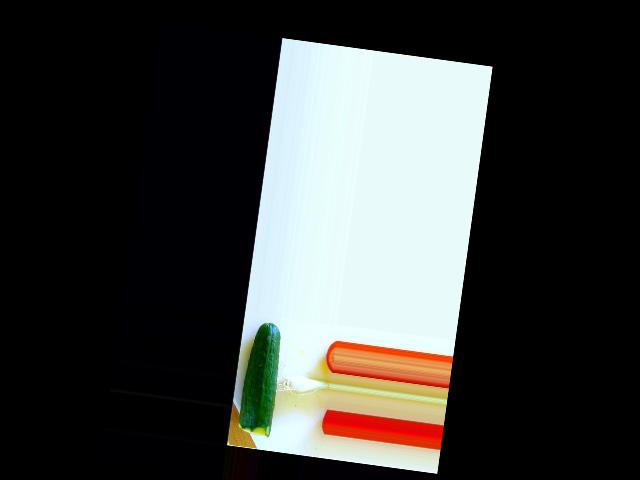cucumber: (236, 319, 284, 437)
